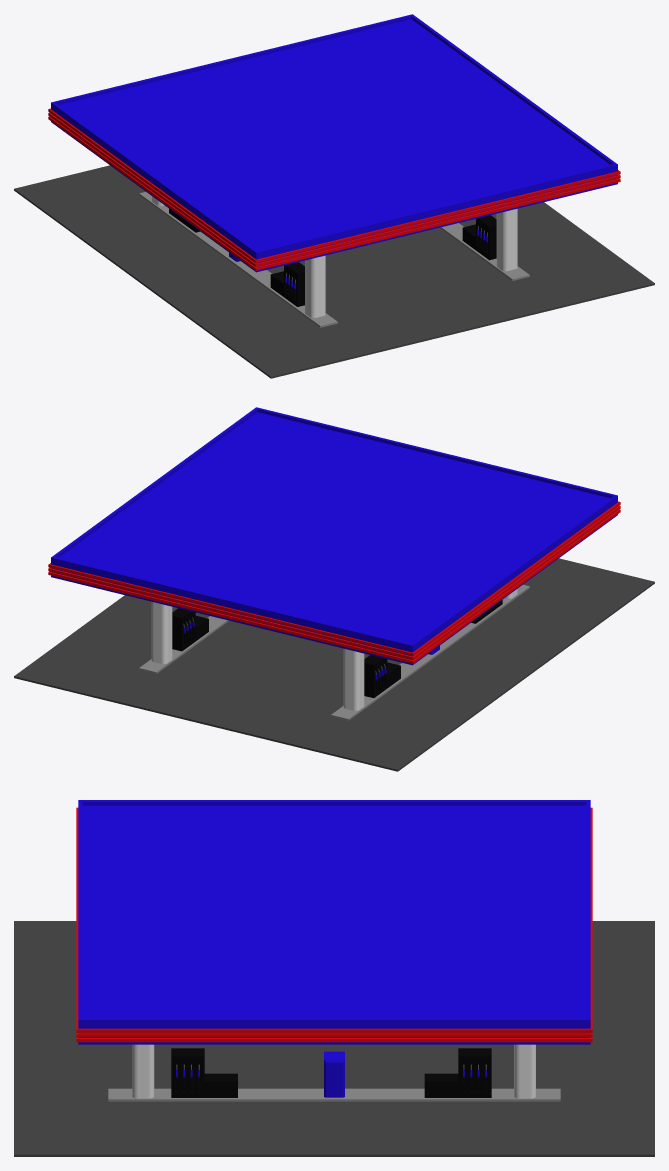
The model's file is benzinaio.fbx.
3 renders of one model, top to bottom at view 1: azimuth 30°, elevation 25°; view 2: azimuth 150°, elevation 25°; view 3: azimuth 270°, elevation 25°, orthographic. The views are drawn at different scales.
Parts seen in each view (by area): view 1: tetto, piano-princ, tetto.003, colonne, marciapiede1, pompa1, pompa1.001, marciapiedi2; view 2: tetto, piano-princ, tetto.003, colonne, marciapiede1, pompa1.002, pompa1.003, marciapiedi2; view 3: tetto, piano-princ, tetto.003, marciapiedi2, pompa1.003, colonne, pompa1.001, pagamento2.
Boxes of the visible parts, x1=… form: tetto: x1=51, y1=14, x2=617, y2=272; piano-princ: x1=14, y1=165, x2=654, y2=378; tetto.003: x1=48, y1=108, x2=620, y2=270; colonne: x1=151, y1=196, x2=517, y2=317; marciapiede1: x1=139, y1=191, x2=337, y2=327; pompa1: x1=270, y1=262, x2=304, y2=306; pompa1.001: x1=462, y1=215, x2=496, y2=260; marciapiedi2: x1=440, y1=223, x2=529, y2=280; tetto: x1=51, y1=407, x2=617, y2=665; piano-princ: x1=14, y1=558, x2=654, y2=771; tetto.003: x1=48, y1=501, x2=620, y2=663; colonne: x1=151, y1=589, x2=517, y2=710; marciapiede1: x1=331, y1=584, x2=529, y2=720; pompa1.002: x1=364, y1=655, x2=400, y2=698; pompa1.003: x1=172, y1=608, x2=208, y2=651; marciapiedi2: x1=139, y1=616, x2=228, y2=673; tetto: x1=78, y1=800, x2=590, y2=1044; piano-princ: x1=14, y1=921, x2=654, y2=1156; tetto.003: x1=76, y1=807, x2=592, y2=1042; marciapiedi2: x1=108, y1=1088, x2=560, y2=1101; pompa1.003: x1=424, y1=1048, x2=491, y2=1097; colonne: x1=132, y1=1044, x2=535, y2=1098; pompa1.001: x1=171, y1=1048, x2=237, y2=1097; pagamento2: x1=324, y1=1051, x2=344, y2=1097.
Bounding box in the file's own units: 2200 × 571 × 2552.
